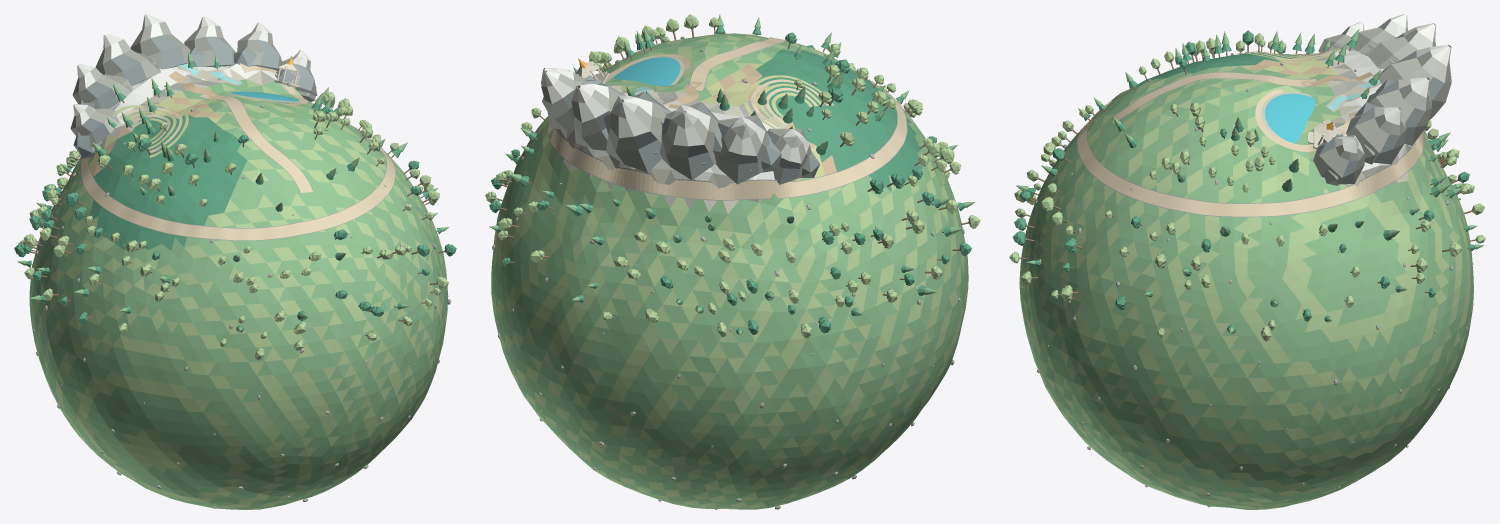
The model's file is nimbu_india_planet_base.glb.
3 views of the same model, side by side, from view 1: azimuth 30°, elevation 25°; view 2: azimuth 150°, elevation 25°; view 3: azimuth 270°, elevation 25° (orthographic). The views are drawn at different scales.
Visible parts, largest first — view 1: BASE_Indian_Himalayan_Planet, BASE_Clear_World_Ring_Path, LANDMARK_Himalaya_Peak_03_faceted_mass, LANDMARK_Himalaya_Peak_02_faceted_mass, LANDMARK_Himalaya_Peak_01_faceted_mass, BASE_Clear_Walking_Path, LANDMARK_Himalaya_Peak_04_faceted_mass, LANDMARK_Himalaya_Peak_00_faceted_mass, LANDMARK_Himalaya_Peak_05_faceted_mass, LANDMARK_Himalaya_Peak_06_faceted_mass; view 2: BASE_Indian_Himalayan_Planet, BASE_Clear_World_Ring_Path, LANDMARK_Himalaya_Peak_03_faceted_mass, LANDMARK_Himalaya_Peak_02_faceted_mass, LANDMARK_Himalaya_Peak_01_faceted_mass, LANDMARK_Himalaya_Peak_04_faceted_mass, LANDMARK_Himalaya_Peak_05_faceted_mass, LANDMARK_Himalaya_Peak_00_faceted_mass, LANDMARK_Neel_Taal_Water, BASE_Clear_Walking_Path, BASE_World_Ring_Edge_Inner; view 3: BASE_Indian_Himalayan_Planet, BASE_Clear_World_Ring_Path, LANDMARK_Himalaya_Peak_03_faceted_mass, LANDMARK_Himalaya_Peak_05_faceted_mass, LANDMARK_Himalaya_Peak_04_faceted_mass, LANDMARK_Himalaya_Peak_06_faceted_mass, LANDMARK_Neel_Taal_Water, LANDMARK_Himalaya_Peak_02_faceted_mass, BASE_Clear_Walking_Path, LANDMARK_Himalaya_Peak_01_faceted_mass, BASE_Clear_Lakeside_Path, LANDMARK_Himalaya_Peak_00_faceted_mass.
Part boxes in pixels (<box>): BASE_Indian_Himalayan_Planet: <box>29,63,448,509</box>; BASE_Clear_World_Ring_Path: <box>81,128,395,240</box>; LANDMARK_Himalaya_Peak_03_faceted_mass: <box>130,14,190,69</box>; LANDMARK_Himalaya_Peak_02_faceted_mass: <box>95,34,160,85</box>; LANDMARK_Himalaya_Peak_01_faceted_mass: <box>72,64,131,108</box>; BASE_Clear_Walking_Path: <box>200,94,312,192</box>; LANDMARK_Himalaya_Peak_04_faceted_mass: <box>184,16,235,66</box>; LANDMARK_Himalaya_Peak_00_faceted_mass: <box>70,104,119,148</box>; LANDMARK_Himalaya_Peak_05_faceted_mass: <box>237,22,281,70</box>; LANDMARK_Himalaya_Peak_06_faceted_mass: <box>280,50,317,96</box>; BASE_Indian_Himalayan_Planet: <box>491,33,968,509</box>; BASE_Clear_World_Ring_Path: <box>547,79,907,199</box>; LANDMARK_Himalaya_Peak_03_faceted_mass: <box>604,91,671,172</box>; LANDMARK_Himalaya_Peak_02_faceted_mass: <box>660,102,719,180</box>; LANDMARK_Himalaya_Peak_01_faceted_mass: <box>714,115,771,184</box>; LANDMARK_Himalaya_Peak_04_faceted_mass: <box>568,83,625,150</box>; LANDMARK_Himalaya_Peak_05_faceted_mass: <box>541,69,587,129</box>; LANDMARK_Himalaya_Peak_00_faceted_mass: <box>767,129,811,184</box>; LANDMARK_Neel_Taal_Water: <box>614,57,680,85</box>; BASE_Clear_Walking_Path: <box>690,37,786,91</box>; BASE_World_Ring_Edge_Inner: <box>547,108,907,200</box>; BASE_Indian_Himalayan_Planet: <box>1019,49,1473,509</box>; BASE_Clear_World_Ring_Path: <box>1077,90,1424,216</box>; LANDMARK_Himalaya_Peak_03_faceted_mass: <box>1379,45,1451,120</box>; LANDMARK_Himalaya_Peak_05_faceted_mass: <box>1346,107,1406,164</box>; LANDMARK_Himalaya_Peak_04_faceted_mass: <box>1367,77,1432,145</box>; LANDMARK_Himalaya_Peak_06_faceted_mass: <box>1313,135,1364,184</box>; LANDMARK_Neel_Taal_Water: <box>1265,93,1315,143</box>; LANDMARK_Himalaya_Peak_02_faceted_mass: <box>1368,23,1436,68</box>; BASE_Clear_Walking_Path: <box>1112,72,1316,123</box>; LANDMARK_Himalaya_Peak_01_faceted_mass: <box>1352,14,1407,54</box>; BASE_Clear_Lakeside_Path: <box>1255,89,1358,151</box>; LANDMARK_Himalaya_Peak_00_faceted_mass: <box>1318,22,1364,52</box>.
Size of the model in its own units: 81.76 by 82.15 by 79.88.
